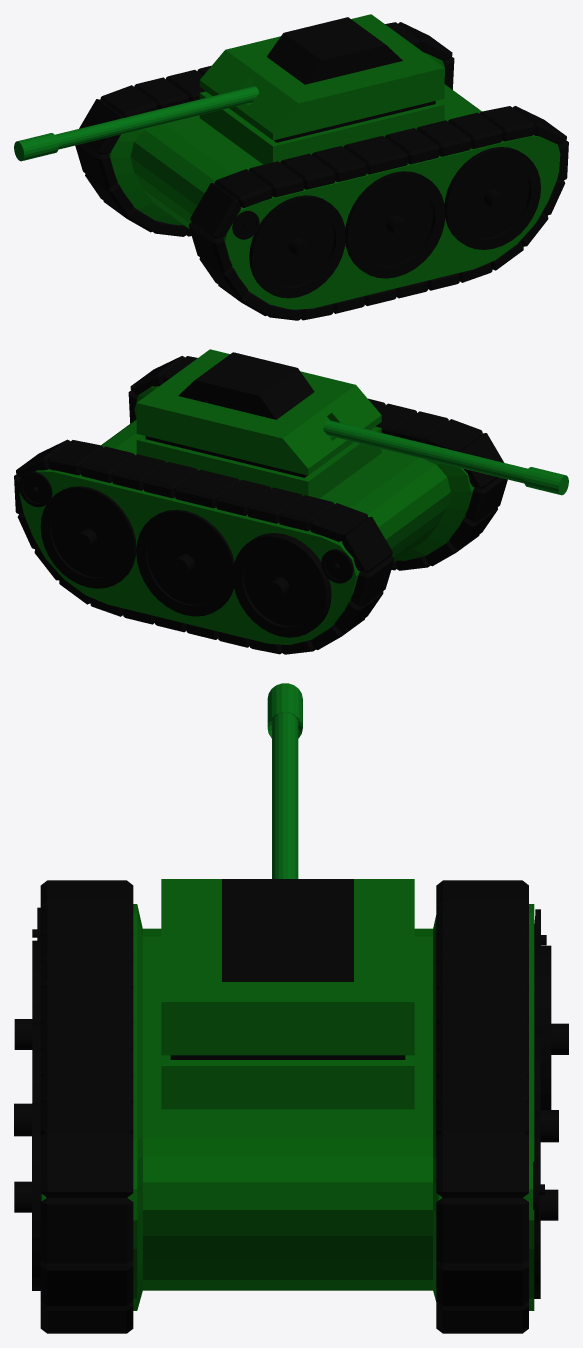
Rendered from tank-6.fbx.
3 views of the same model, one above another, from view 1: azimuth 30°, elevation 25°; view 2: azimuth 150°, elevation 25°; view 3: azimuth 270°, elevation 25° (orthographic). The views are drawn at different scales.
Visible parts, largest first — view 1: tank, tank_palet, tank_Cylinder, tank.001, tank_gun; view 2: tank, tank_palet, tank_Cylinder, tank.001, tank_gun; view 3: tank, tank_palet, tank.001, tank_Cylinder, tank_gun.
Part boxes in pixels (x1,y1,x2,y2): tank: (108, 14, 560, 309); tank_palet: (75, 22, 568, 320); tank_Cylinder: (232, 147, 540, 298); tank.001: (266, 17, 435, 142); tank_gun: (14, 86, 259, 161); tank: (19, 349, 474, 645); tank_palet: (14, 356, 507, 654); tank_Cylinder: (19, 471, 353, 637); tank.001: (145, 352, 314, 477); tank_gun: (323, 420, 568, 495); tank: (41, 879, 534, 1310); tank_palet: (40, 880, 528, 1333); tank.001: (170, 879, 405, 1059); tank_Cylinder: (14, 907, 568, 1298); tank_gun: (267, 683, 302, 878).
Bounding box in the file's own units: 767 × 316 × 444.
